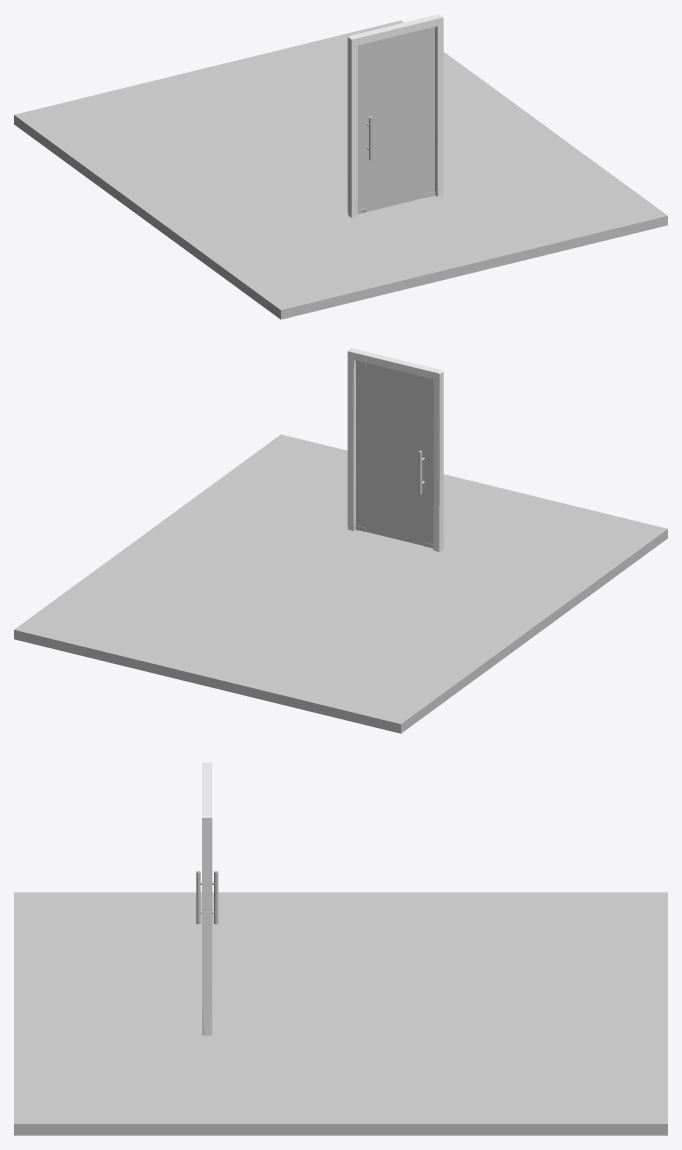
The model's file is glass door.fbx.
3 renders of one model, top to bottom at view 1: azimuth 30°, elevation 25°; view 2: azimuth 150°, elevation 25°; view 3: azimuth 270°, elevation 25°, orthographic. The views are drawn at different scales.
Visible parts, largest first — view 1: Box (×3); view 2: Box (×3); view 3: Box (×2).
Part boxes in pixels (bbox=[...]): Box (×3): bbox=[14, 14, 667, 319]; Box (×3): bbox=[14, 348, 667, 733]; Box (×2): bbox=[14, 762, 667, 1135].
Size of the model in its own units: 4.92 by 2.28 by 5.88.
1 material, 1 textured.
